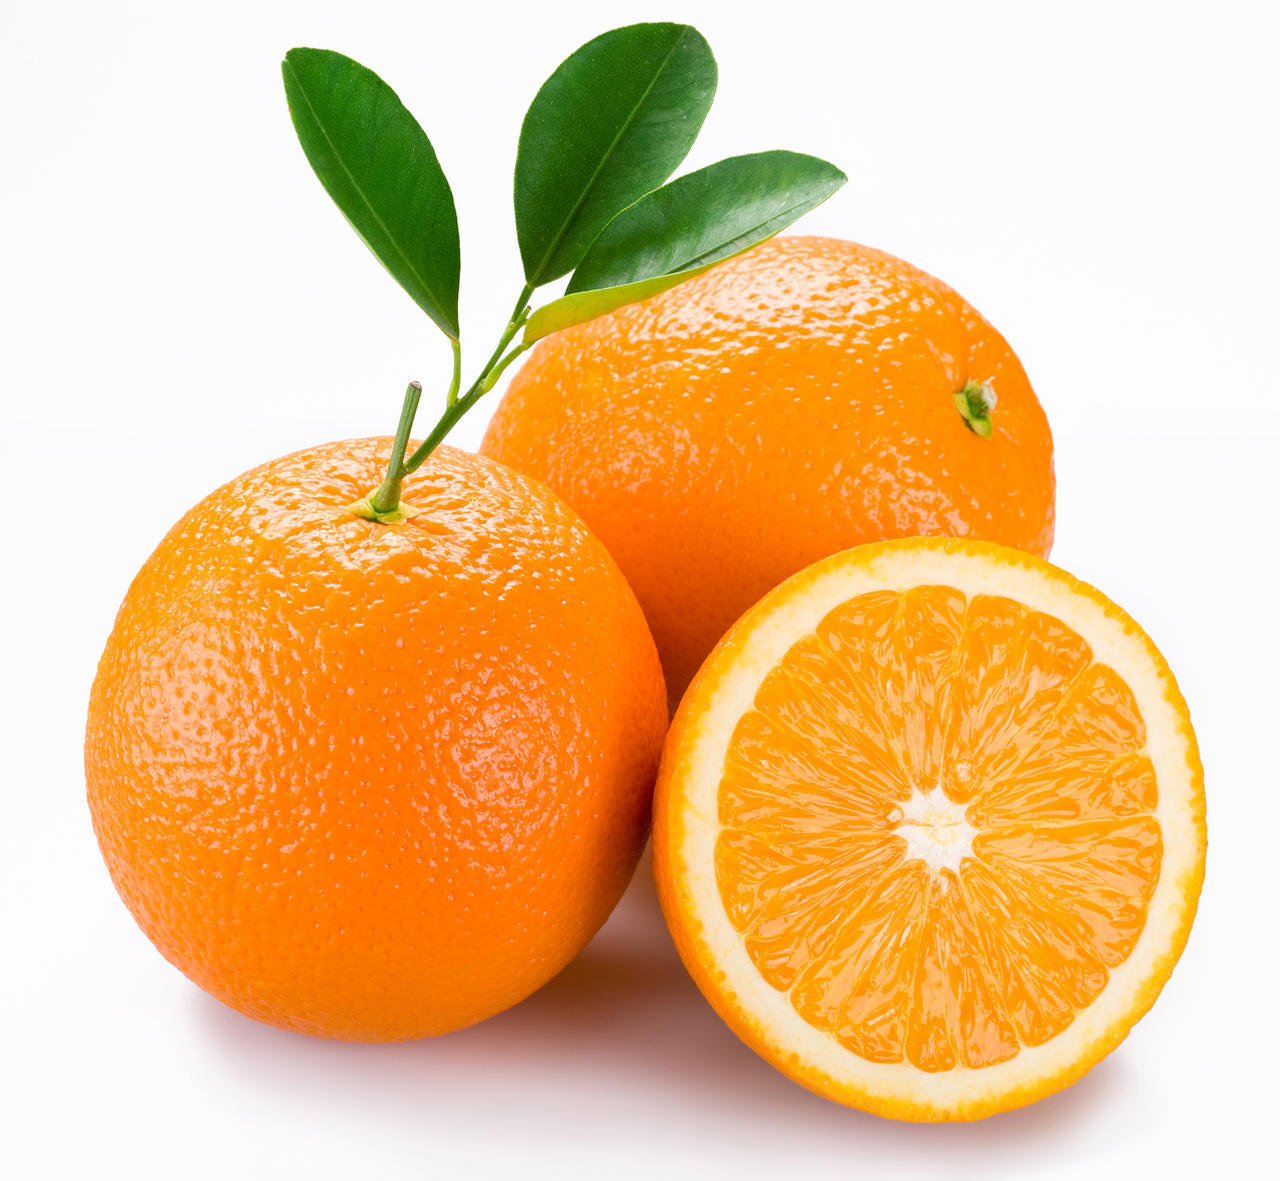orange: (87, 435, 670, 1045), (652, 530, 1208, 1123), (477, 231, 1058, 785)
